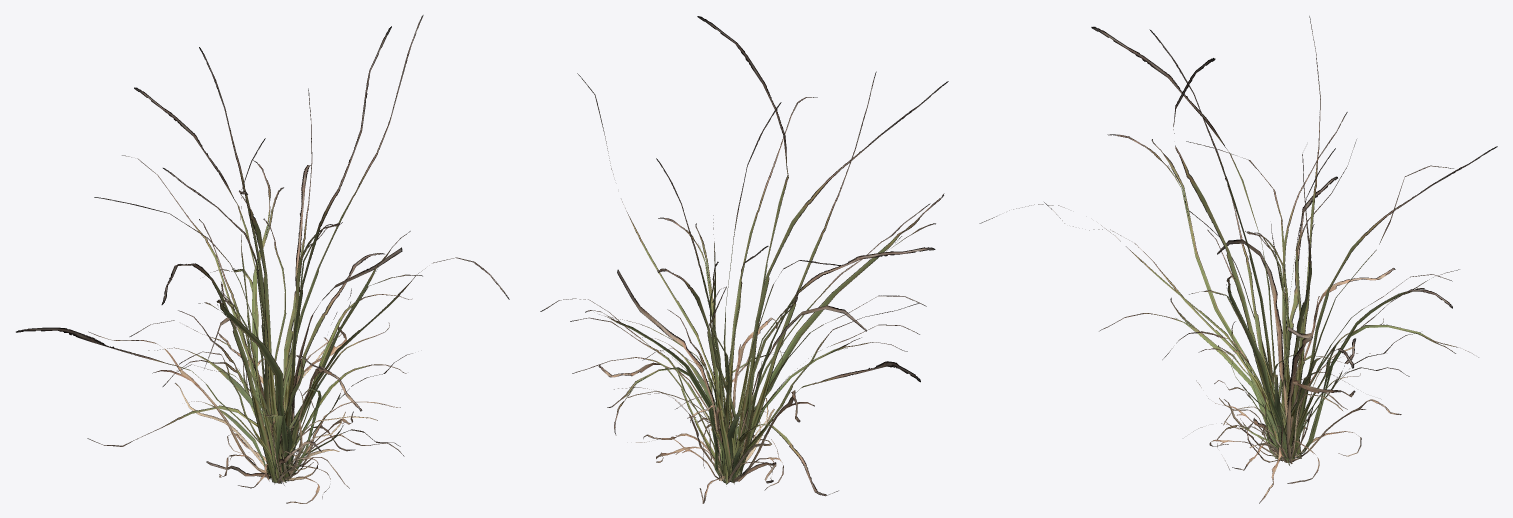
The model's file is grass_showcase_ce.gltf.
3 views of the same model, side by side, from view 1: azimuth 30°, elevation 25°; view 2: azimuth 150°, elevation 25°; view 3: azimuth 270°, elevation 25° (orthographic). The views are drawn at different scales.
Visible parts, largest first — view 1: grass_medium_02_e, grass_medium_02_c; view 2: grass_medium_02_e, grass_medium_02_c; view 3: grass_medium_02_e, grass_medium_02_c.
Part boxes in pixels (<box>): grass_medium_02_e: <box>16,15,509,503</box>; grass_medium_02_c: <box>177,218,412,498</box>; grass_medium_02_e: <box>540,16,948,503</box>; grass_medium_02_c: <box>572,215,918,484</box>; grass_medium_02_e: <box>979,16,1497,465</box>; grass_medium_02_c: <box>1187,209,1478,503</box>.
Bounding box in the file's own units: 0.3556 × 0.4053 × 0.4332.
1 material, 1 textured.
